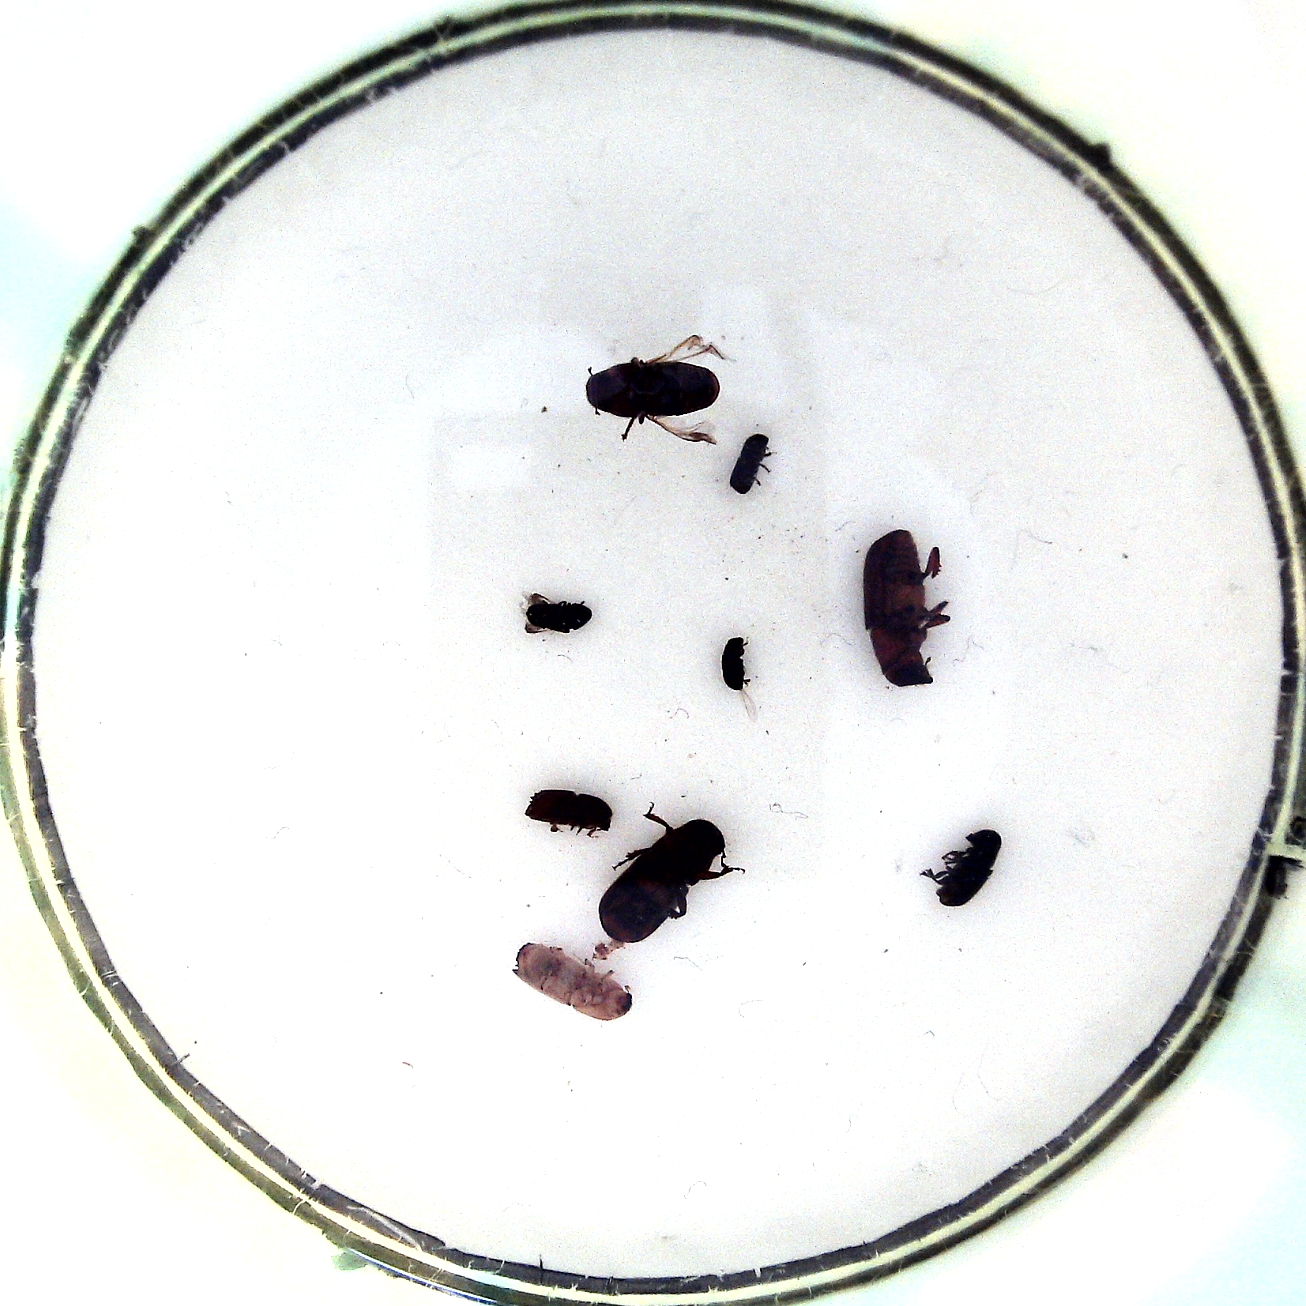Boerner: (509, 939, 637, 1019)
Leconte: (593, 808, 747, 962), (578, 328, 737, 448), (858, 521, 956, 695)
Linnaeus: (520, 782, 620, 837)
armandi: (920, 828, 1006, 911)
coleoptera: (512, 582, 598, 641), (724, 431, 781, 496), (719, 631, 755, 718)
